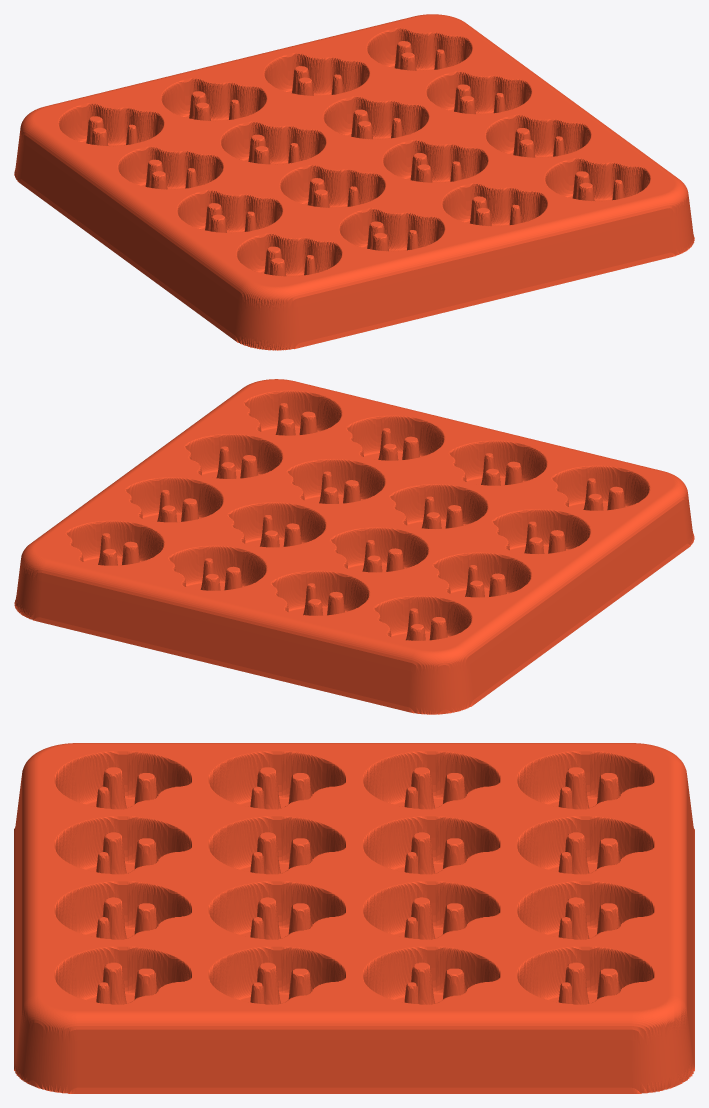
The model's file is mold.glb.
3 renders of one model, top to bottom at view 1: azimuth 30°, elevation 25°; view 2: azimuth 150°, elevation 25°; view 3: azimuth 270°, elevation 25°, orthographic. The views are drawn at different scales.
Parts seen in each view (by area): view 1: geometry_0; view 2: geometry_0; view 3: geometry_0.
Boxes of the visible parts, <box> form: geometry_0: <box>14,14,694,350</box>; geometry_0: <box>14,379,694,714</box>; geometry_0: <box>14,743,694,1093</box>.
Size of the model in its own units: 0.0972 by 0.0114 by 0.0972.
